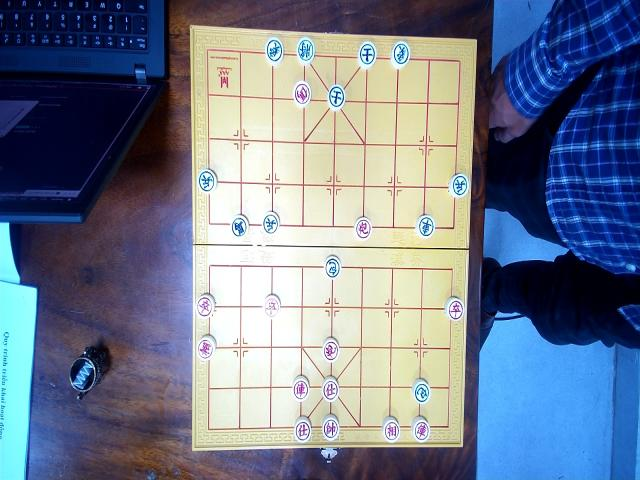piece: (196, 334, 216, 361), (410, 415, 430, 442), (390, 41, 410, 68), (265, 36, 284, 64), (449, 172, 469, 198), (381, 415, 400, 442), (411, 378, 430, 405), (357, 41, 376, 68), (292, 80, 310, 108), (296, 36, 314, 64), (444, 296, 464, 321), (197, 167, 217, 192), (195, 292, 214, 318), (294, 416, 312, 443), (322, 337, 340, 364), (292, 374, 310, 401), (415, 215, 435, 239), (322, 415, 340, 441), (327, 84, 345, 110), (354, 215, 372, 240), (321, 376, 338, 402), (324, 254, 342, 278), (230, 215, 248, 239), (262, 211, 280, 235), (264, 293, 280, 318)
